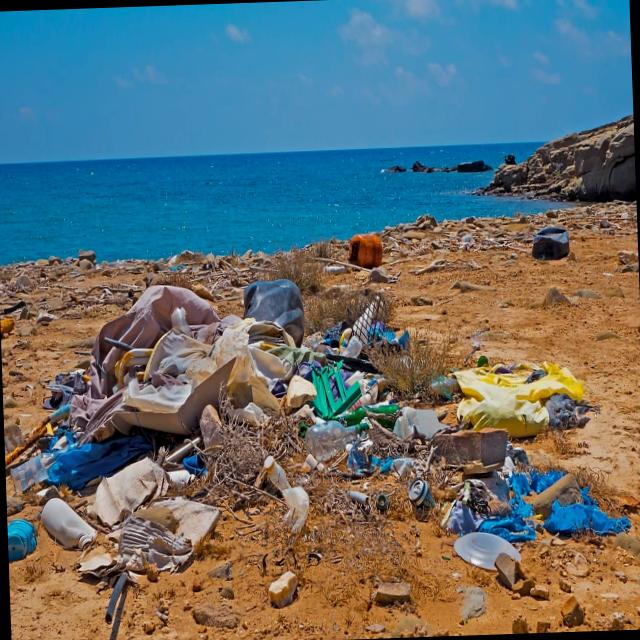garbage: (2, 259, 620, 635), (525, 224, 578, 274), (342, 222, 388, 266)
